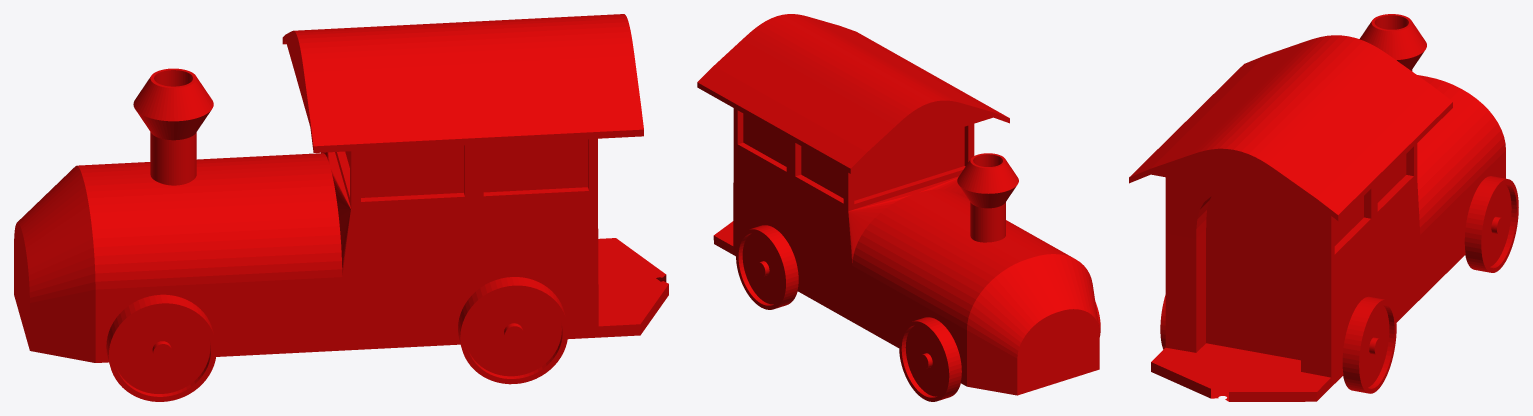
The model's file is Train_main.fbx.
3 renders of one model, left to right at view 1: azimuth 30°, elevation 25°; view 2: azimuth 150°, elevation 25°; view 3: azimuth 270°, elevation 25°, orthographic. The views are drawn at different scales.
Visible parts, largest first — view 1: MainTrain; view 2: MainTrain; view 3: MainTrain.
Part boxes in pixels (left/top/right/bottom): MainTrain: left=14, top=14, right=668, bottom=401; MainTrain: left=697, top=14, right=1100, bottom=401; MainTrain: left=1129, top=14, right=1518, bottom=401.
Bounding box in the file's own units: 28.26 × 14.82 × 19.63.
